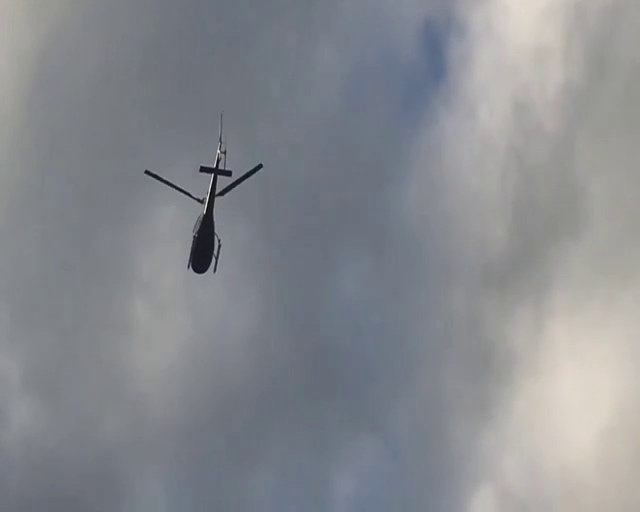HELICOPTER: (141, 108, 264, 276)
